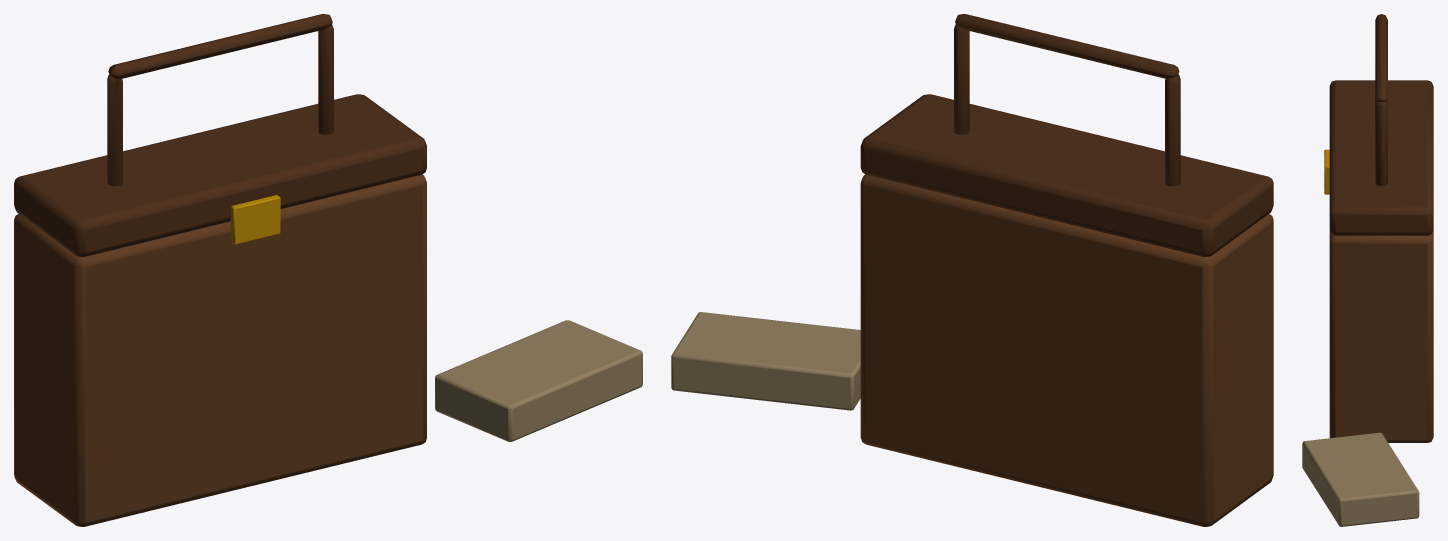
The model's file is TuiXachMe_ViTien.glb.
3 renders of one model, left to right at view 1: azimuth 30°, elevation 25°; view 2: azimuth 150°, elevation 25°; view 3: azimuth 270°, elevation 25°, orthographic. The views are drawn at different scales.
Visible parts, largest first — view 1: TuiXachMe_ViTien; view 2: TuiXachMe_ViTien; view 3: TuiXachMe_ViTien.
Part boxes in pixels (x1,y1,x2,y2): TuiXachMe_ViTien: [14, 14, 642, 526]; TuiXachMe_ViTien: [671, 14, 1273, 526]; TuiXachMe_ViTien: [1302, 14, 1433, 526].
Size of the model in its own units: 0.4873 by 0.346 by 0.1261.
